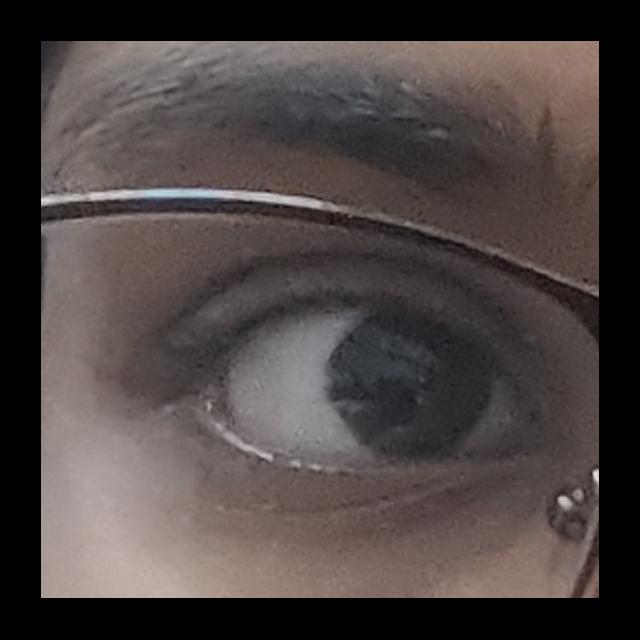eye: (224, 304, 518, 461)
iris: (328, 312, 498, 457)
